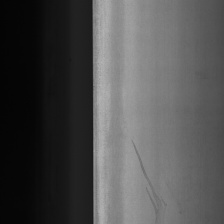water_spot: (128, 130, 172, 224)
